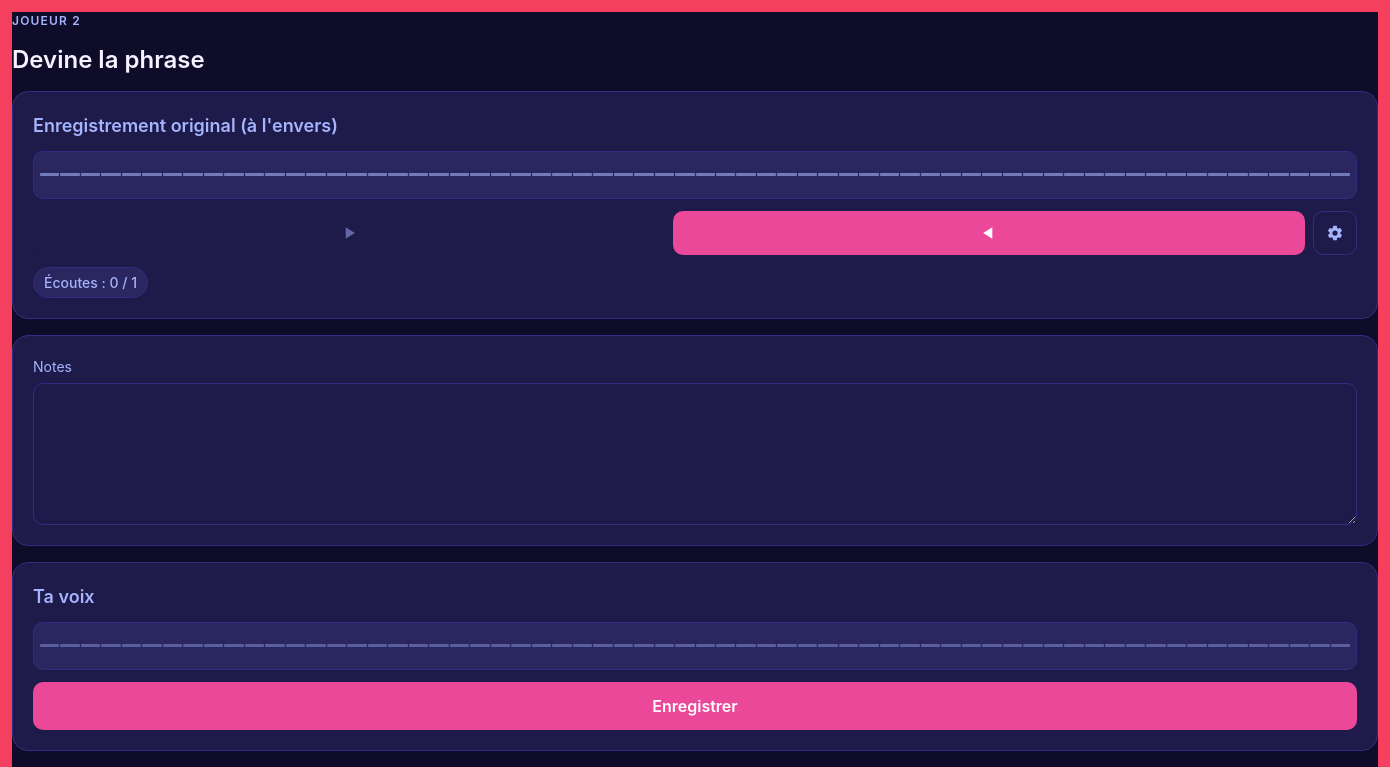
Test case: <GuessingPhase /> › disables the play button after reaching the limit by clicking play
This screenshot has width=1390, height=767.
Click the button named "lecture à l'envers". click: x=989, y=233
box: [673,211,1305,255]
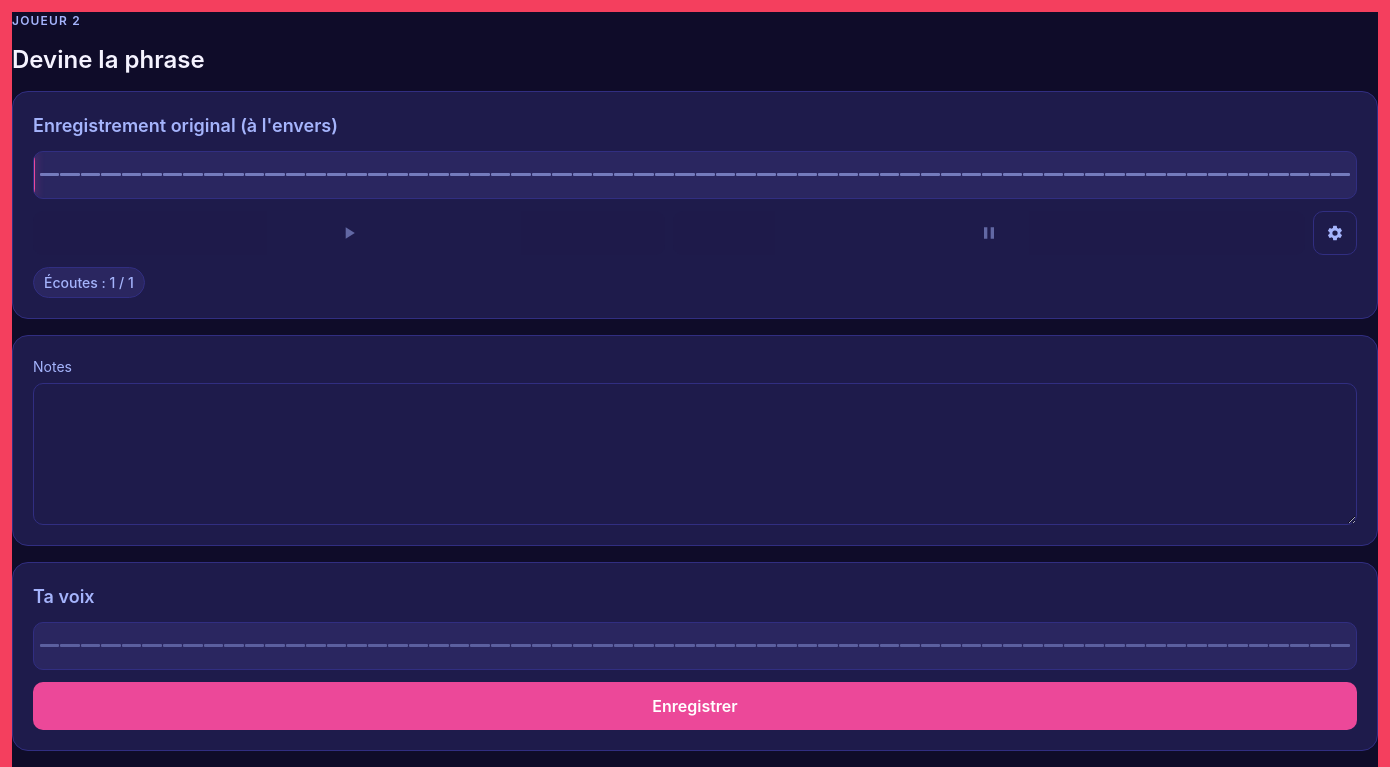
Check: the button named "pause" is disabled, box [673,211,1305,255]
Check: the text named "compteur d'écoutes" reads "Écoutes : 1 / 1", box [44,274,134,291]
